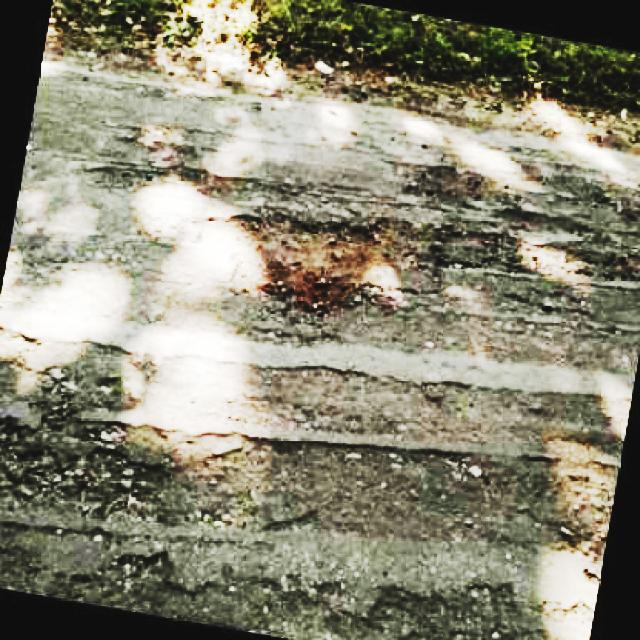pothole: (189, 195, 429, 323), (0, 380, 191, 529), (438, 165, 637, 308), (518, 446, 617, 585)
